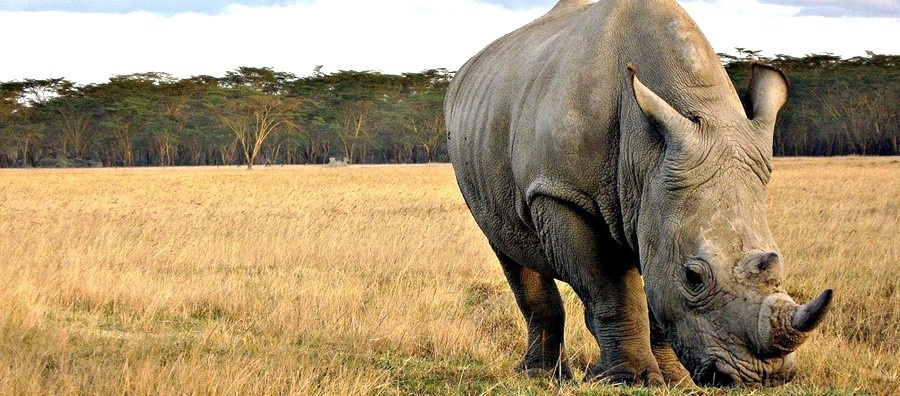rhino: (438, 0, 836, 388)
